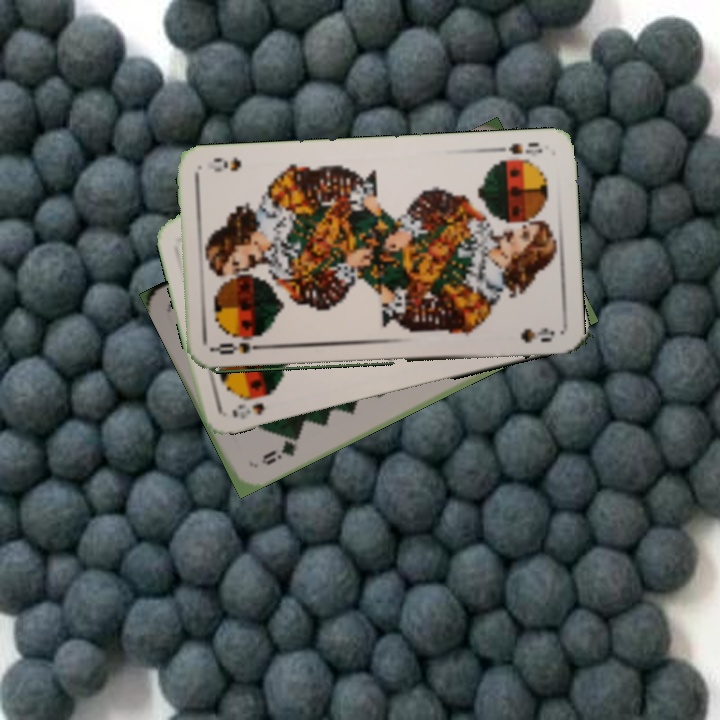G9: (257, 431, 303, 468)
SO: (210, 335, 269, 357), (490, 137, 546, 157), (228, 399, 267, 422)
